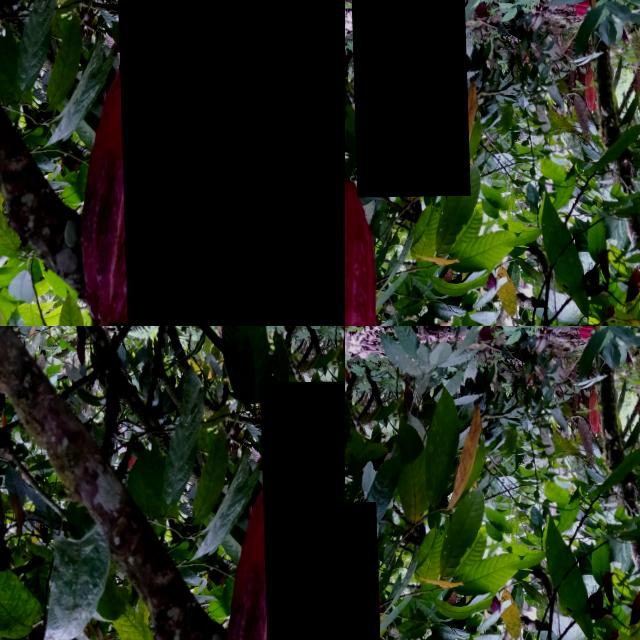Sana: (113, 0, 345, 326), (351, 0, 469, 198), (259, 382, 345, 640), (587, 390, 600, 436)
